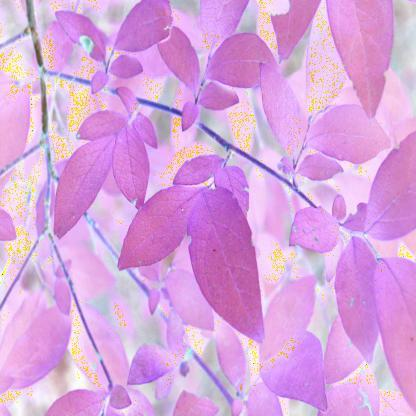Blueberry leaf: (184, 185, 268, 346), (114, 179, 206, 278), (49, 131, 117, 245), (2, 297, 75, 400), (303, 97, 402, 168), (371, 253, 416, 407), (254, 324, 332, 410), (332, 226, 380, 364), (254, 56, 310, 166), (367, 134, 416, 244), (200, 38, 283, 90), (112, 121, 152, 208), (153, 26, 199, 98), (286, 202, 344, 256), (198, 82, 242, 119), (181, 98, 200, 138), (332, 193, 348, 225)
